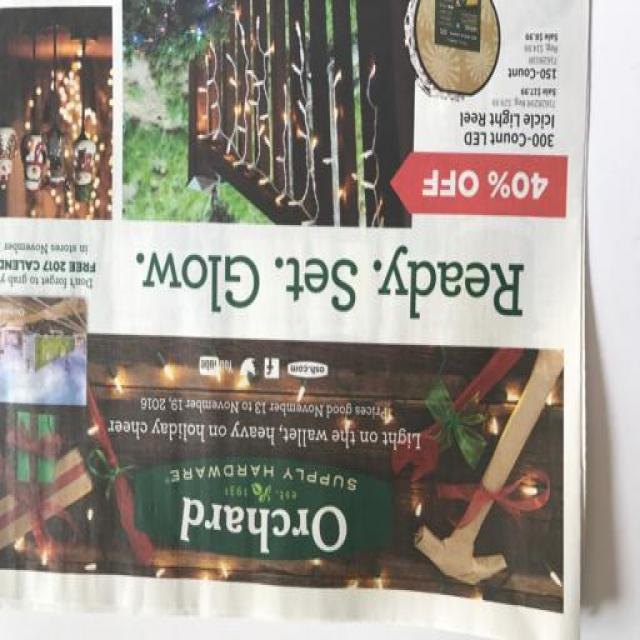paper: (1, 1, 596, 638)
